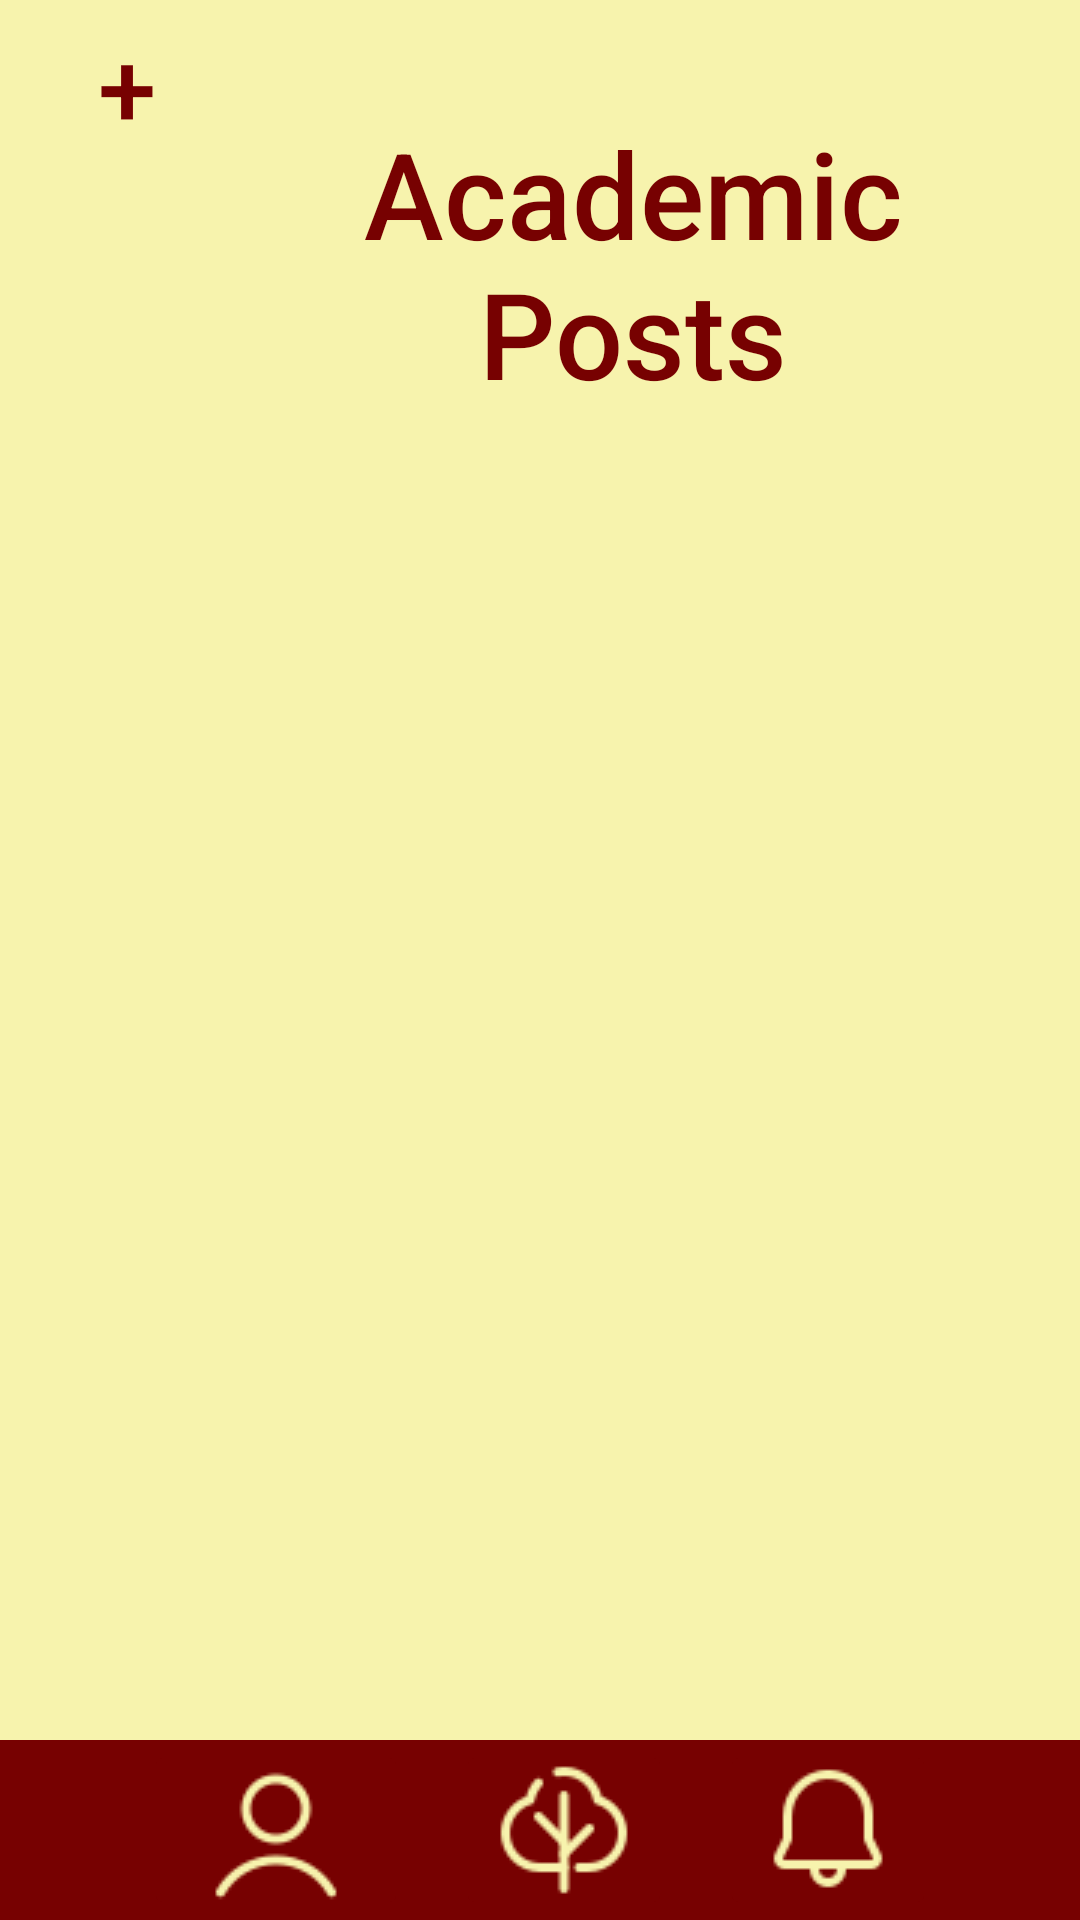

Icon bounding boxes for this 1080px x 1920px phone screenshot, format (x1, y1, x2, y2):
bell: (773, 1769, 883, 1888)
profile: (215, 1772, 337, 1899)
tree: (500, 1766, 628, 1894)
